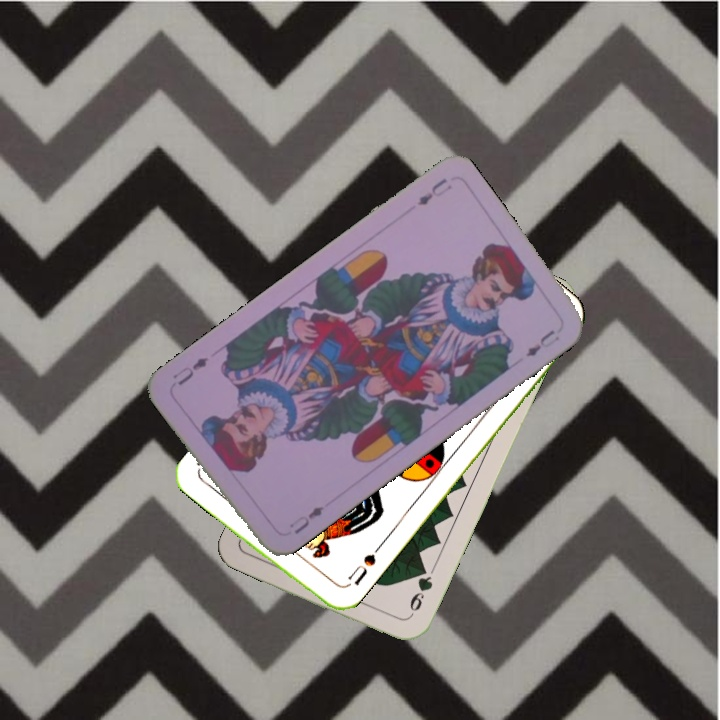EU: (285, 498, 332, 538), (413, 174, 455, 209)
G9: (404, 562, 436, 621)
SU: (343, 549, 379, 589)
